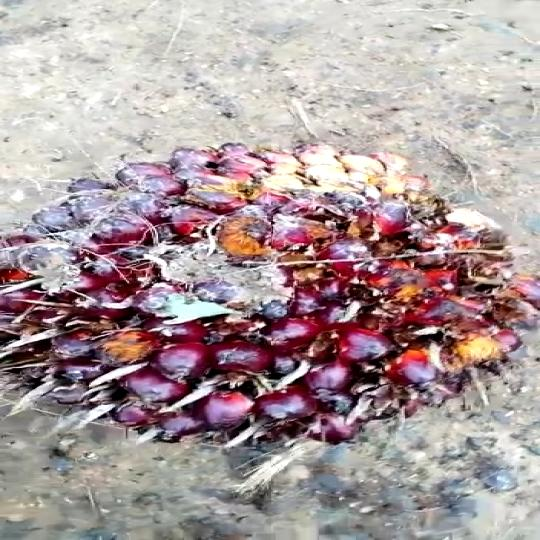masak: (0, 149, 540, 450)
